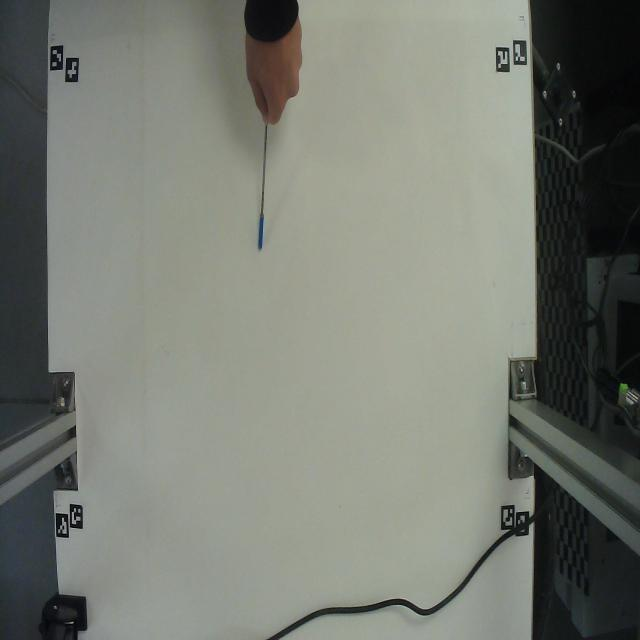Pres: (245, 120, 286, 258)
